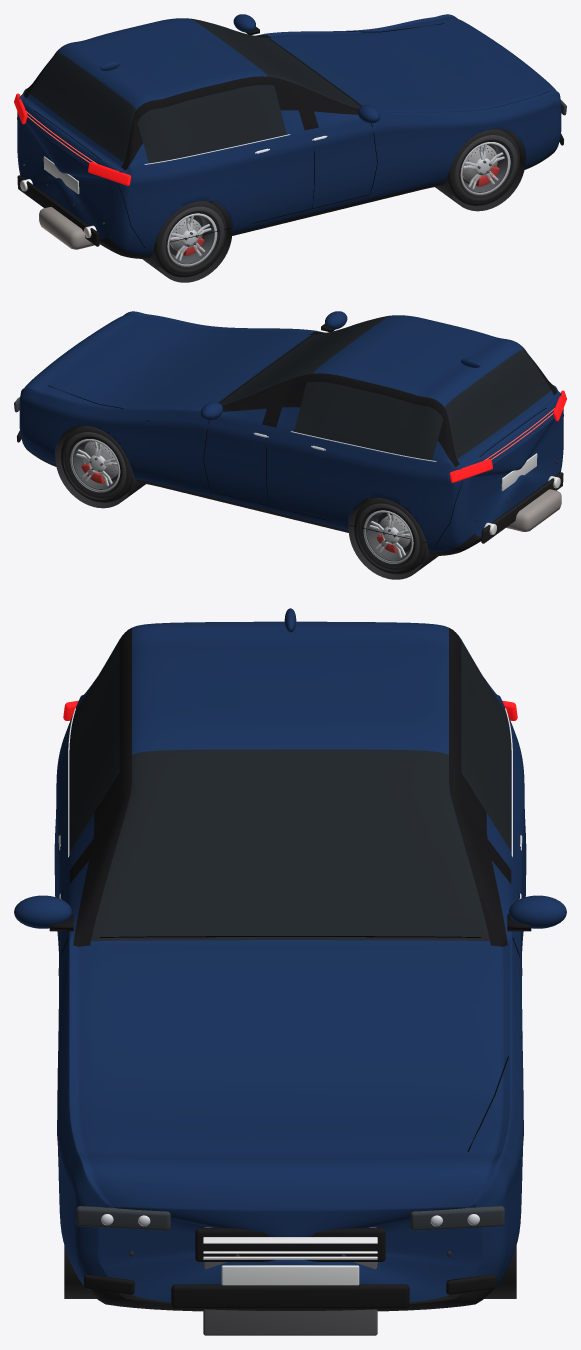
The model's file is kleinwagen.glb.
The picture shows the model from 3 angles, top to bottom: view 1: azimuth 30°, elevation 25°; view 2: azimuth 150°, elevation 25°; view 3: azimuth 270°, elevation 25°; orthographic projection. The views are drawn at different scales.
Parts seen in each view (by area): view 1: karosserie, bt:rad_hr, bt:rad_vr, bt:auspuff, diffusor, radhausschale.001, radhausschale.003, bt:bremse_vr, rueckleuchte_-1, bt:bremse_hr, kennzeichen_hinten; view 2: karosserie, bt:rad_hl, bt:rad_vl, bt:auspuff, diffusor, radhausschale.002, radhausschale, bt:bremse_vl, rueckleuchte_1, bt:bremse_hl, kennzeichen_hinten; view 3: karosserie, lufteinlass, bt:kuehler, grill, kennzeichen_vorn, scheinwerfer_1, scheinwerfer_-1, spiegel_1, spiegel_-1, grill_lamelle_2.
Boxes of the visible parts, left/top/right/bottom form: karosserie: left=17, top=14, right=561, bottom=258; bt:rad_hr: left=154, top=200, right=226, bottom=277; bt:rad_vr: left=448, top=128, right=519, bottom=205; bt:auspuff: left=39, top=207, right=94, bottom=249; diffusor: left=17, top=175, right=99, bottom=246; radhausschale.001: left=435, top=129, right=525, bottom=211; radhausschale.003: left=142, top=202, right=232, bottom=282; bt:bremse_vr: left=462, top=145, right=499, bottom=186; rueckleuchte_-1: left=88, top=162, right=131, bottom=185; bt:bremse_hr: left=169, top=218, right=204, bottom=255; kennzeichen_hinten: left=43, top=156, right=79, bottom=194; karosserie: left=19, top=311, right=563, bottom=555; bt:rad_hl: left=354, top=497, right=426, bottom=574; bt:rad_vl: left=61, top=425, right=132, bottom=502; bt:auspuff: left=506, top=489, right=561, bottom=531; diffusor: left=481, top=472, right=563, bottom=543; radhausschale.002: left=348, top=499, right=438, bottom=579; radhausschale: left=55, top=427, right=145, bottom=508; bt:bremse_vl: left=81, top=442, right=118, bottom=483; rueckleuchte_1: left=449, top=459, right=492, bottom=482; bt:bremse_hl: left=376, top=515, right=411, bottom=552; kennzeichen_hinten: left=501, top=453, right=537, bottom=491; karosserie: left=54, top=621, right=526, bottom=1311; lufteinlass: left=171, top=1284, right=409, bottom=1308; bt:kuehler: left=203, top=1227, right=377, bottom=1335; grill: left=195, top=1228, right=385, bottom=1261; kennzeichen_vorn: left=221, top=1265, right=359, bottom=1285; scheinwerfer_1: left=410, top=1206, right=504, bottom=1230; scheinwerfer_-1: left=76, top=1206, right=170, bottom=1230; spiegel_1: left=509, top=895, right=566, bottom=928; spiegel_-1: left=14, top=895, right=71, bottom=928; grill_lamelle_2: left=203, top=1237, right=377, bottom=1243.
Bounding box in the file's own units: 4.18 × 1.53 × 2.09.
